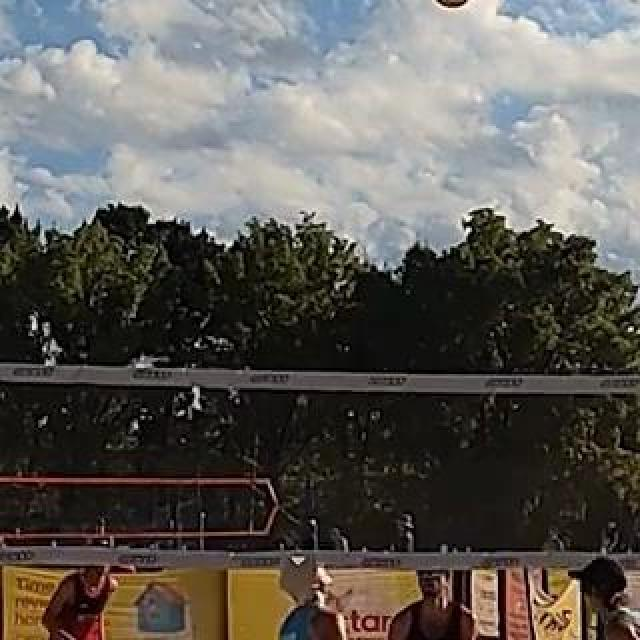volleyball: (432, 0, 470, 8)
